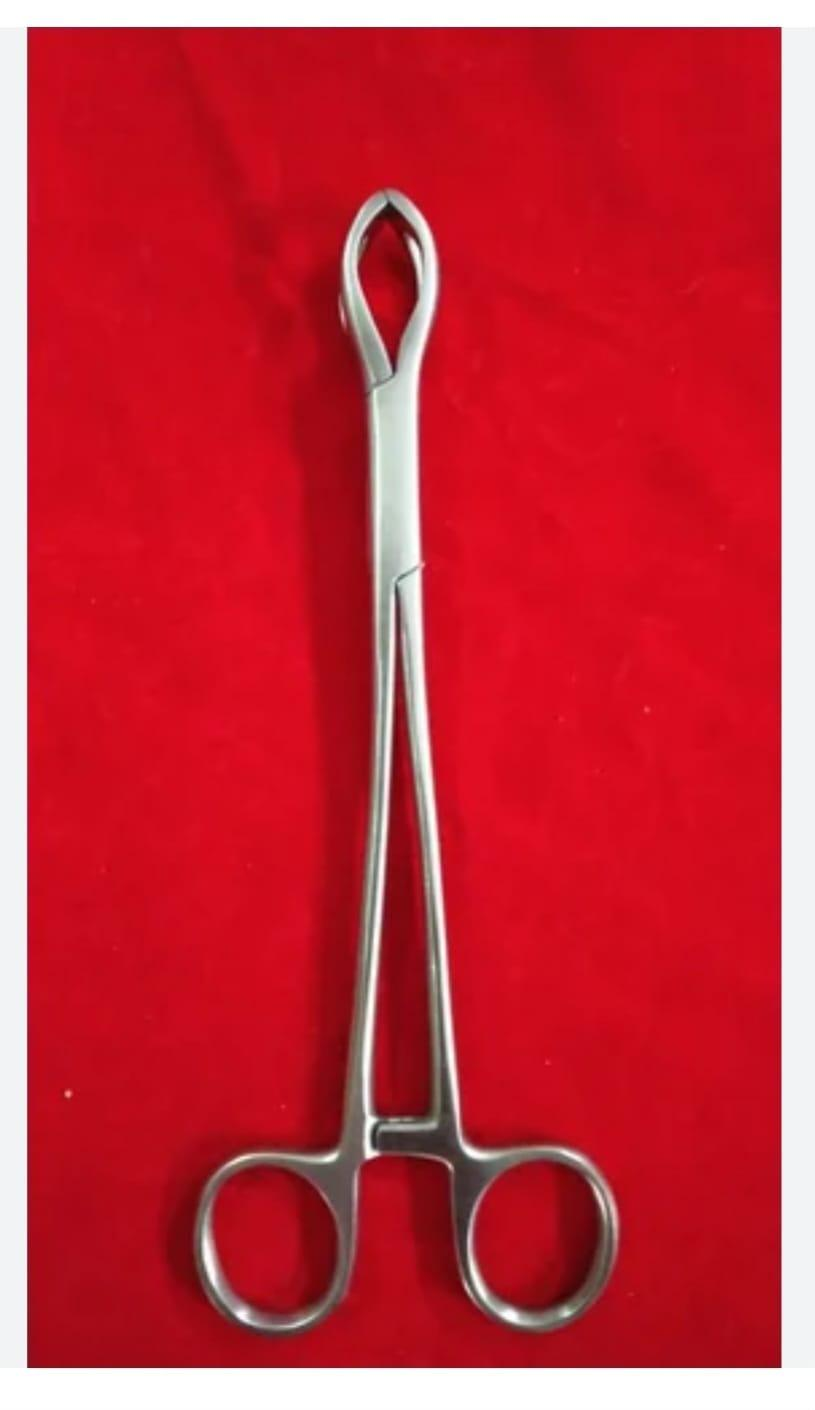Lane Tissue Forceps: (176, 182, 624, 1348)
